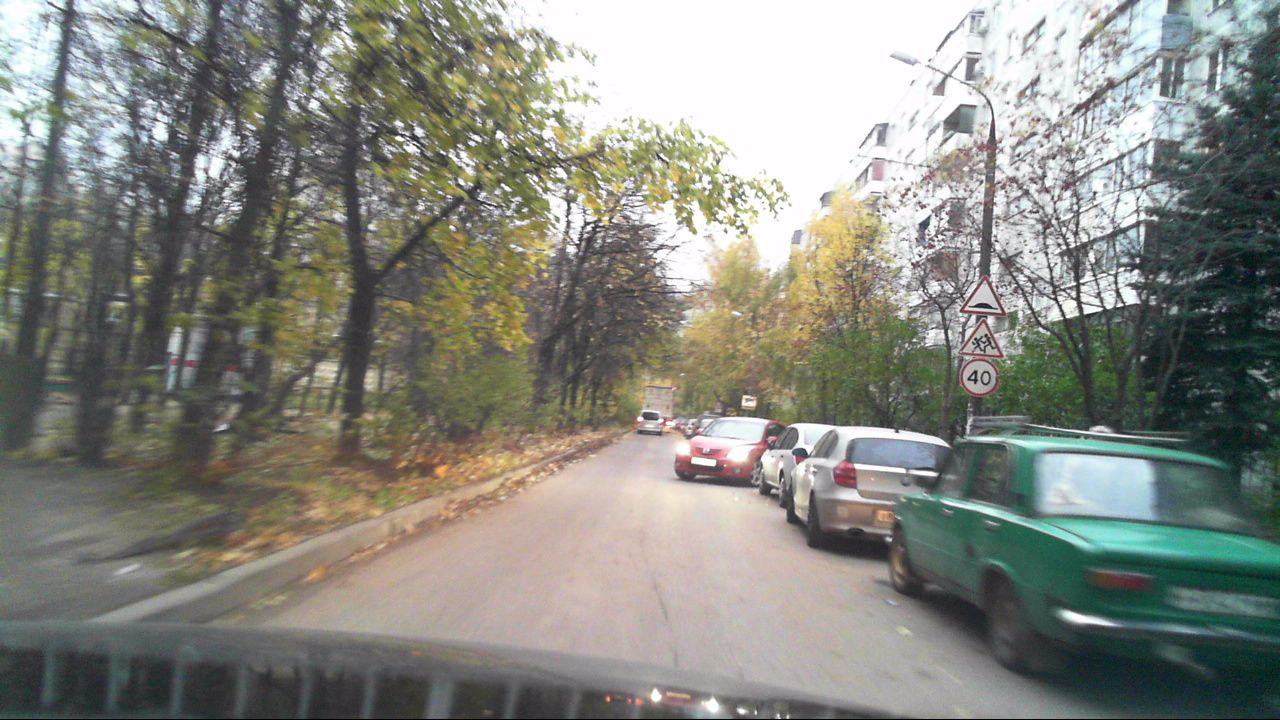speed_warning_40: (958, 359, 998, 396)
